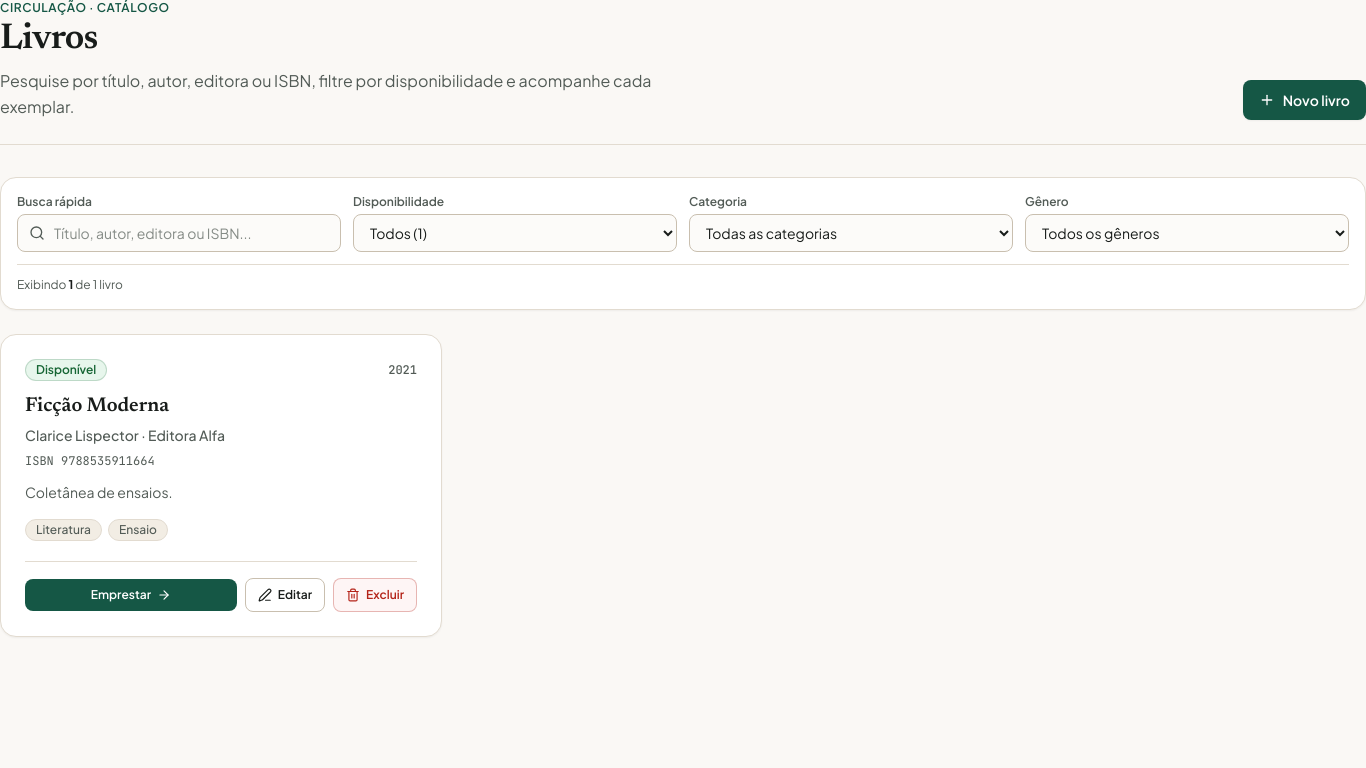
Scenario: Livros › exibe mensagem explicativa quando exclusão retorna HTTP 500 por histórico de empréstimo
expect the heading "Ficção Moderna" is shown: met, box [25, 396, 169, 416]
Click the button with aria-label "Excluir Ficção Moderna" at (375, 595), box [333, 578, 417, 612]
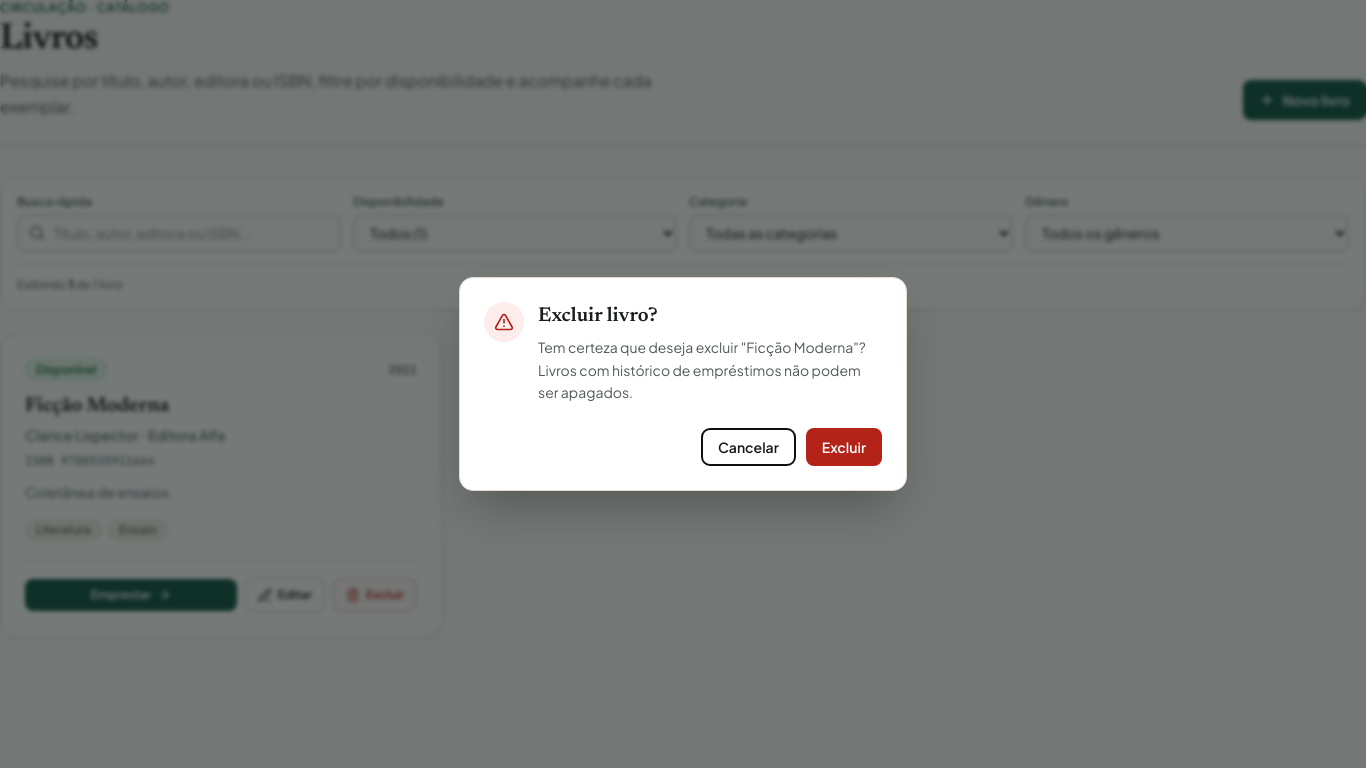
Click the button "Excluir" at (844, 447), box [806, 428, 882, 466]
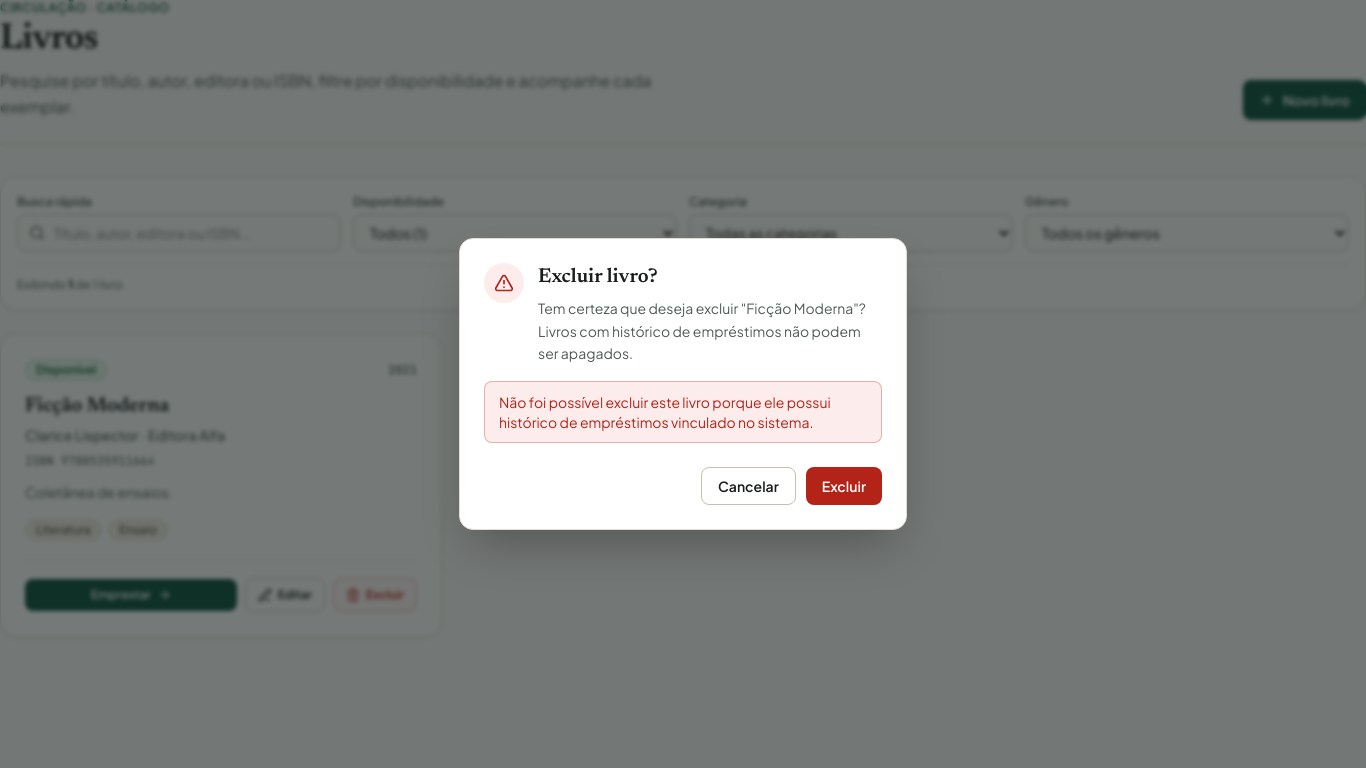
expect the text "possui histórico de empréstimos vinculado no sistema" is shown: met, box [499, 393, 831, 431]
